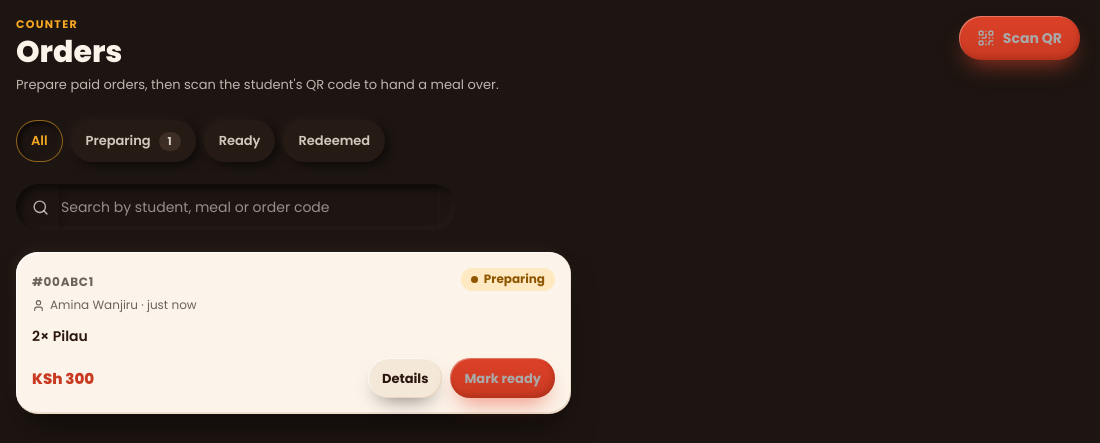
Orders screen › surfaces a server error instead of pretending success
Click the button "Mark ready".
click(503, 378)  # box [450,358,555,398]
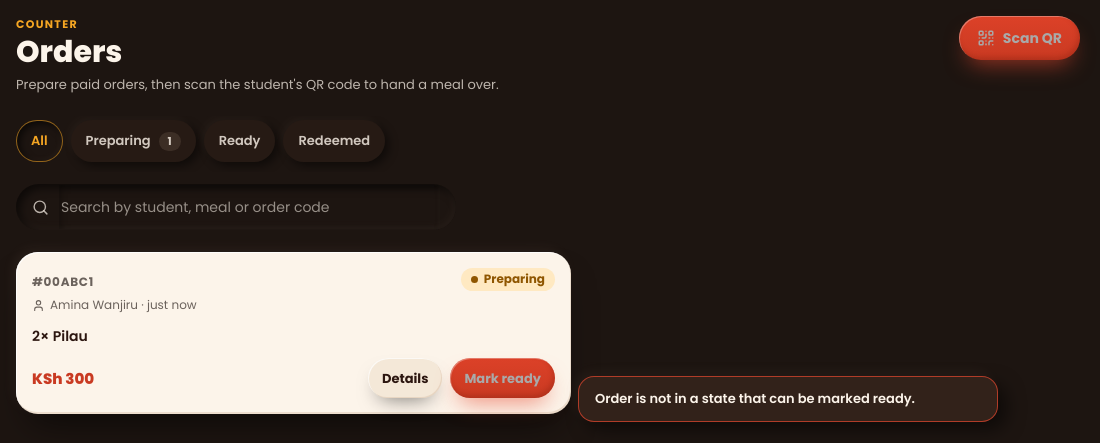
Expected: the message shows "not in a state", [595,389,915,408]
